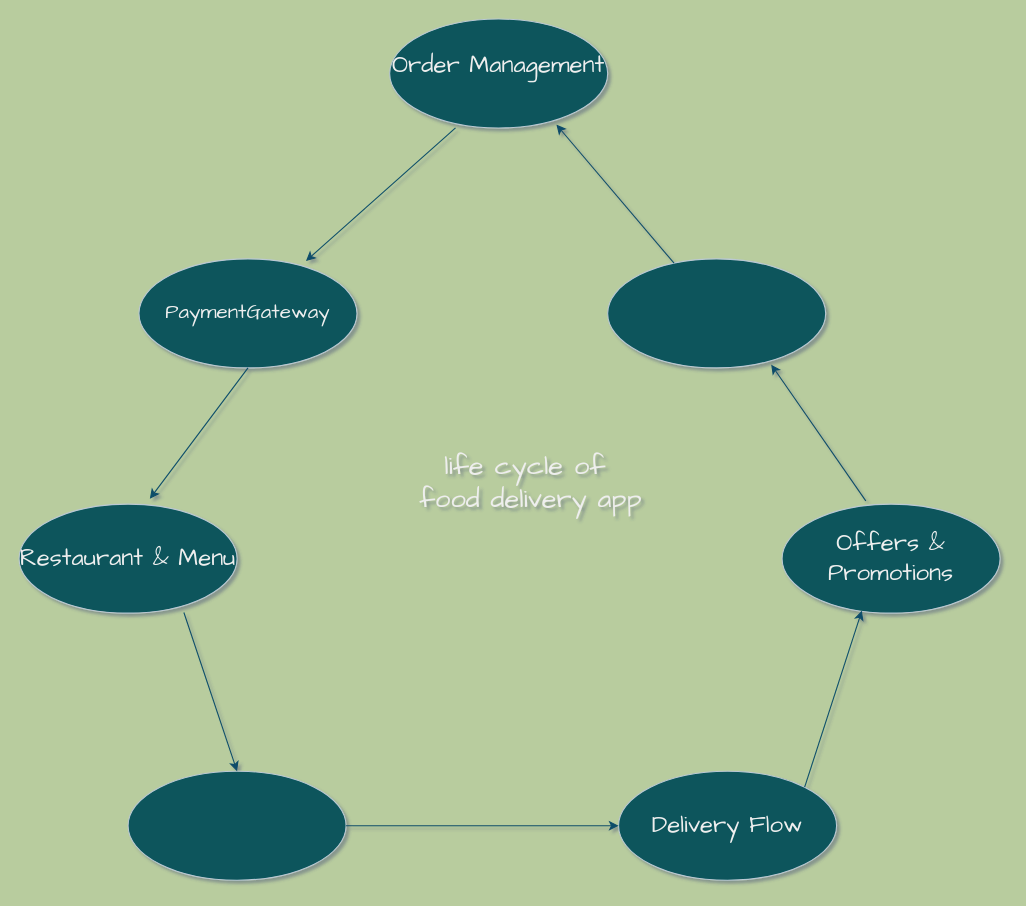
Some shapes in this 1026 by 906 pixel diagram are drawn without their labels. The shapes that lost their labels are listed below. From the top down, each one's centre as x and y in pixels, then its label:
pixel 716 313: Operations & Monitoring
pixel 236 825: User & Customer
